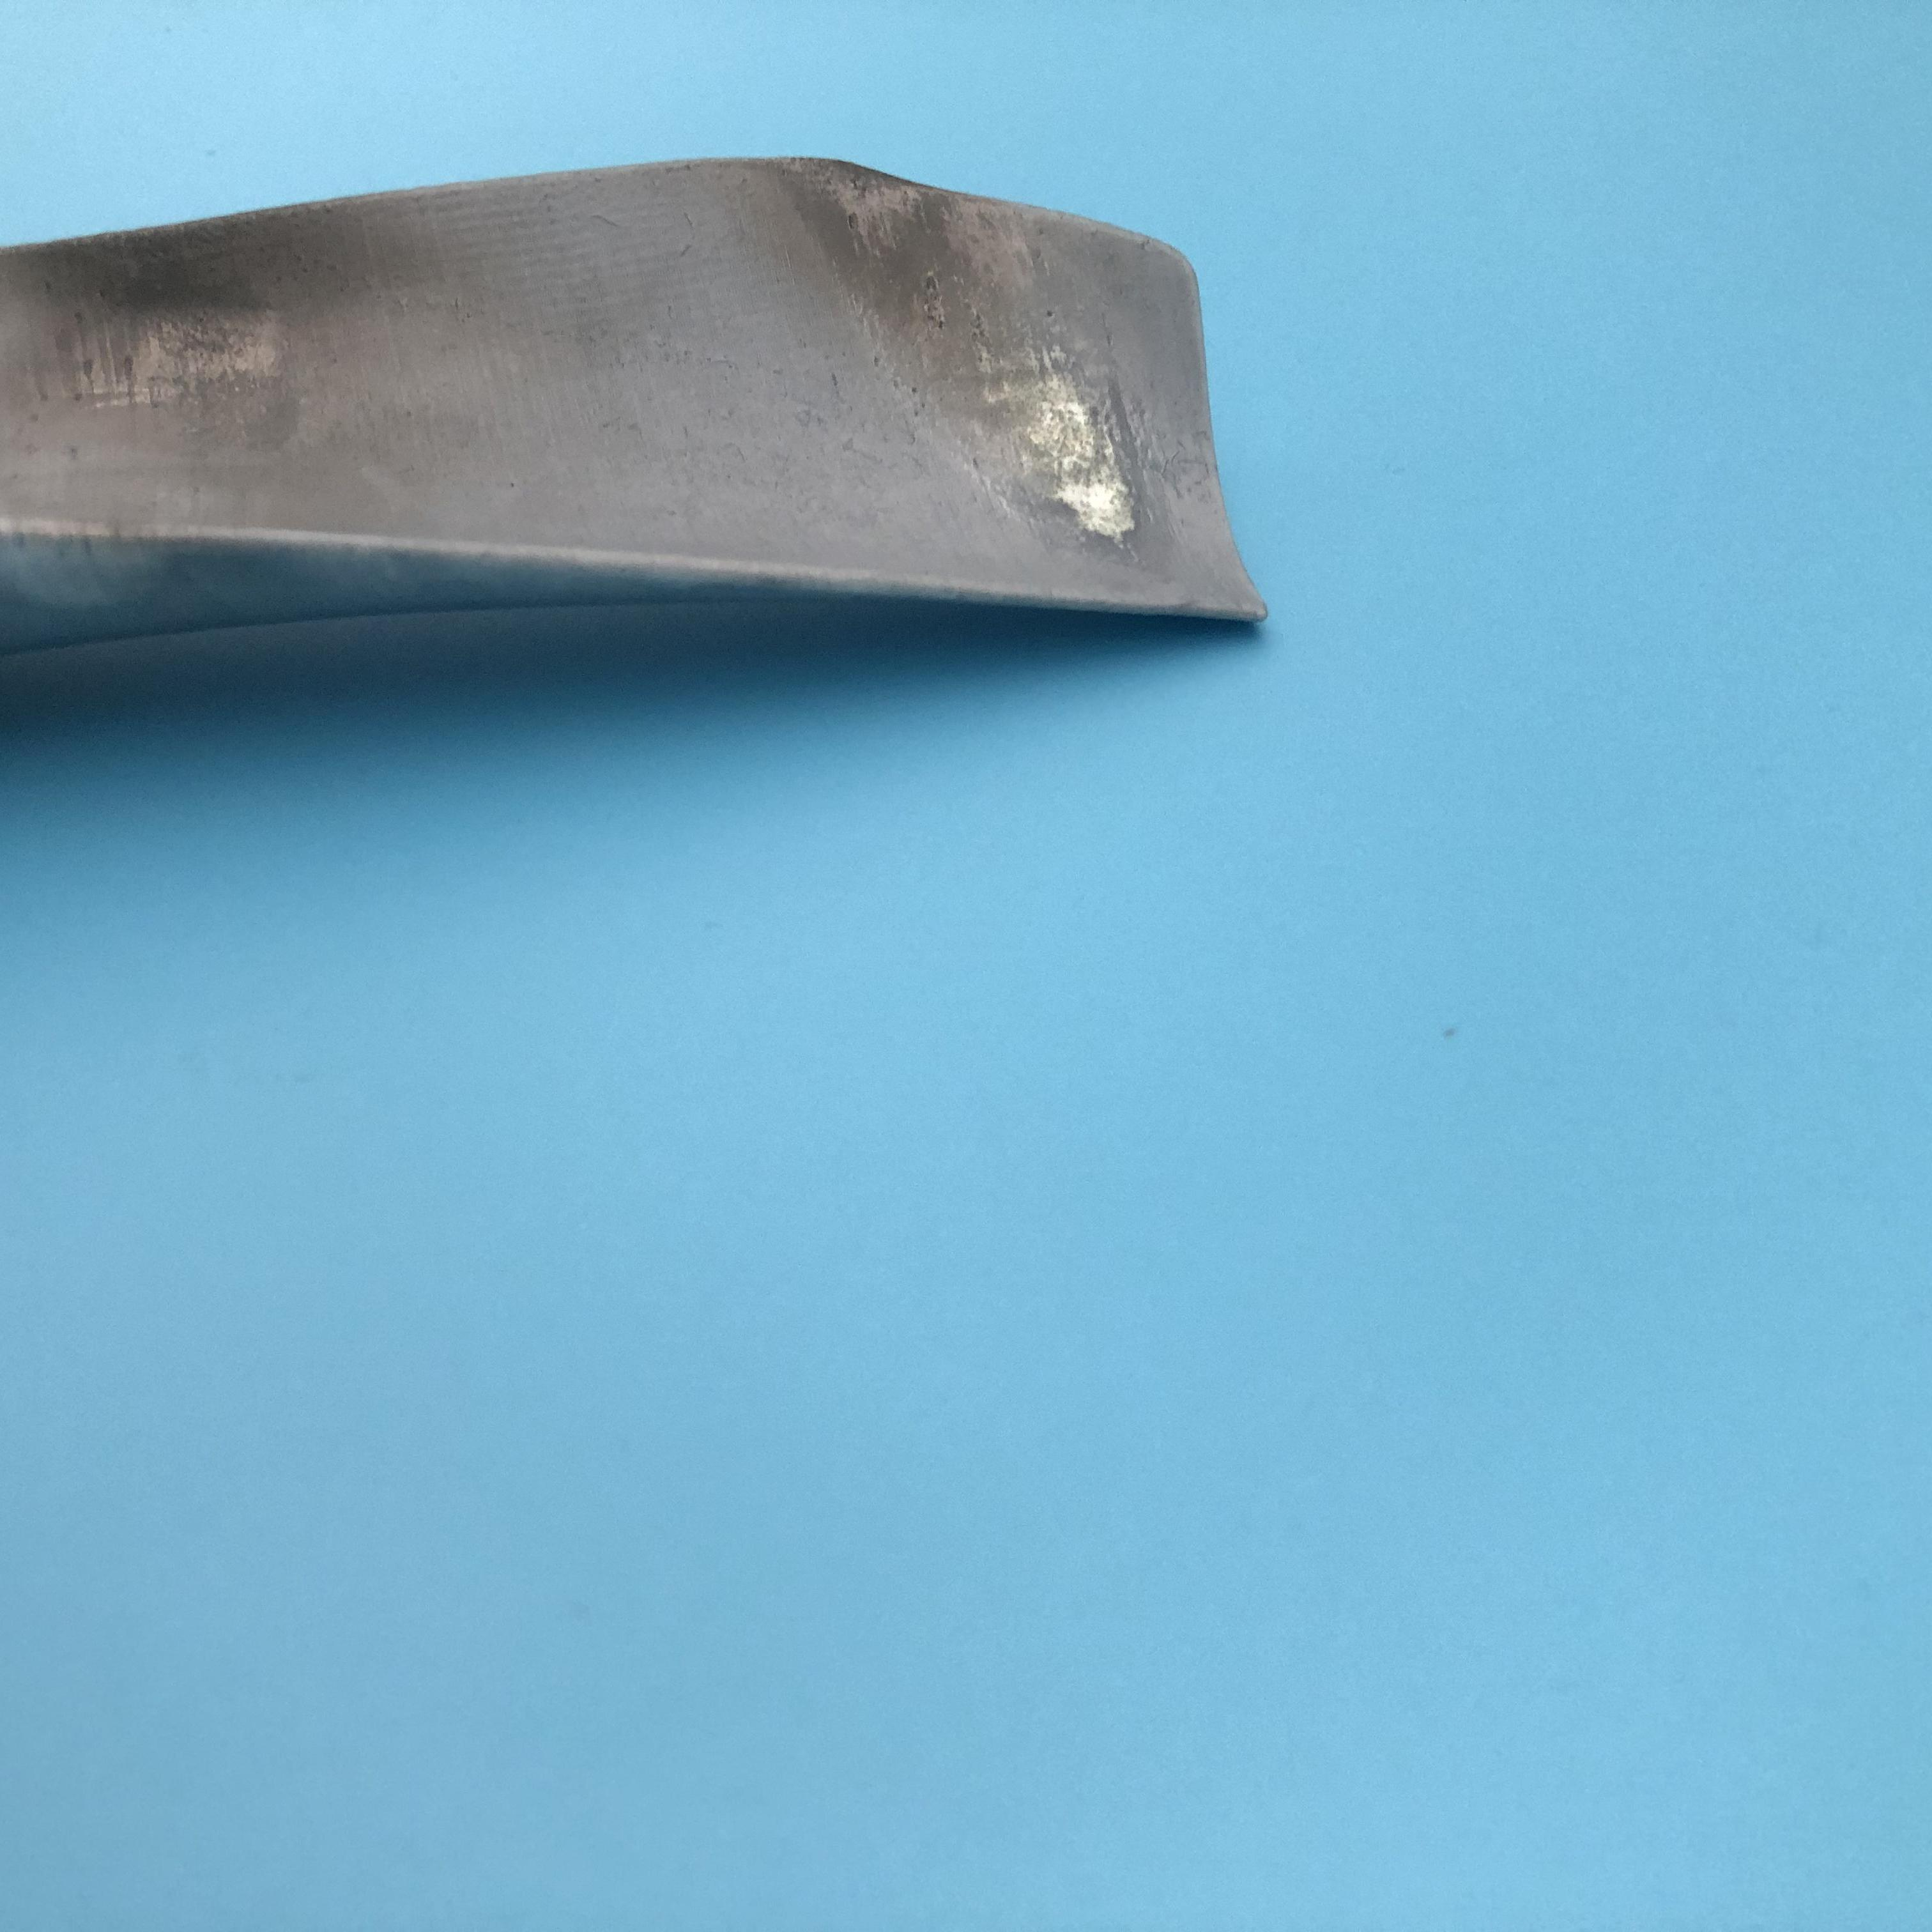ablation: (823, 173, 1146, 536), (41, 230, 396, 469)
